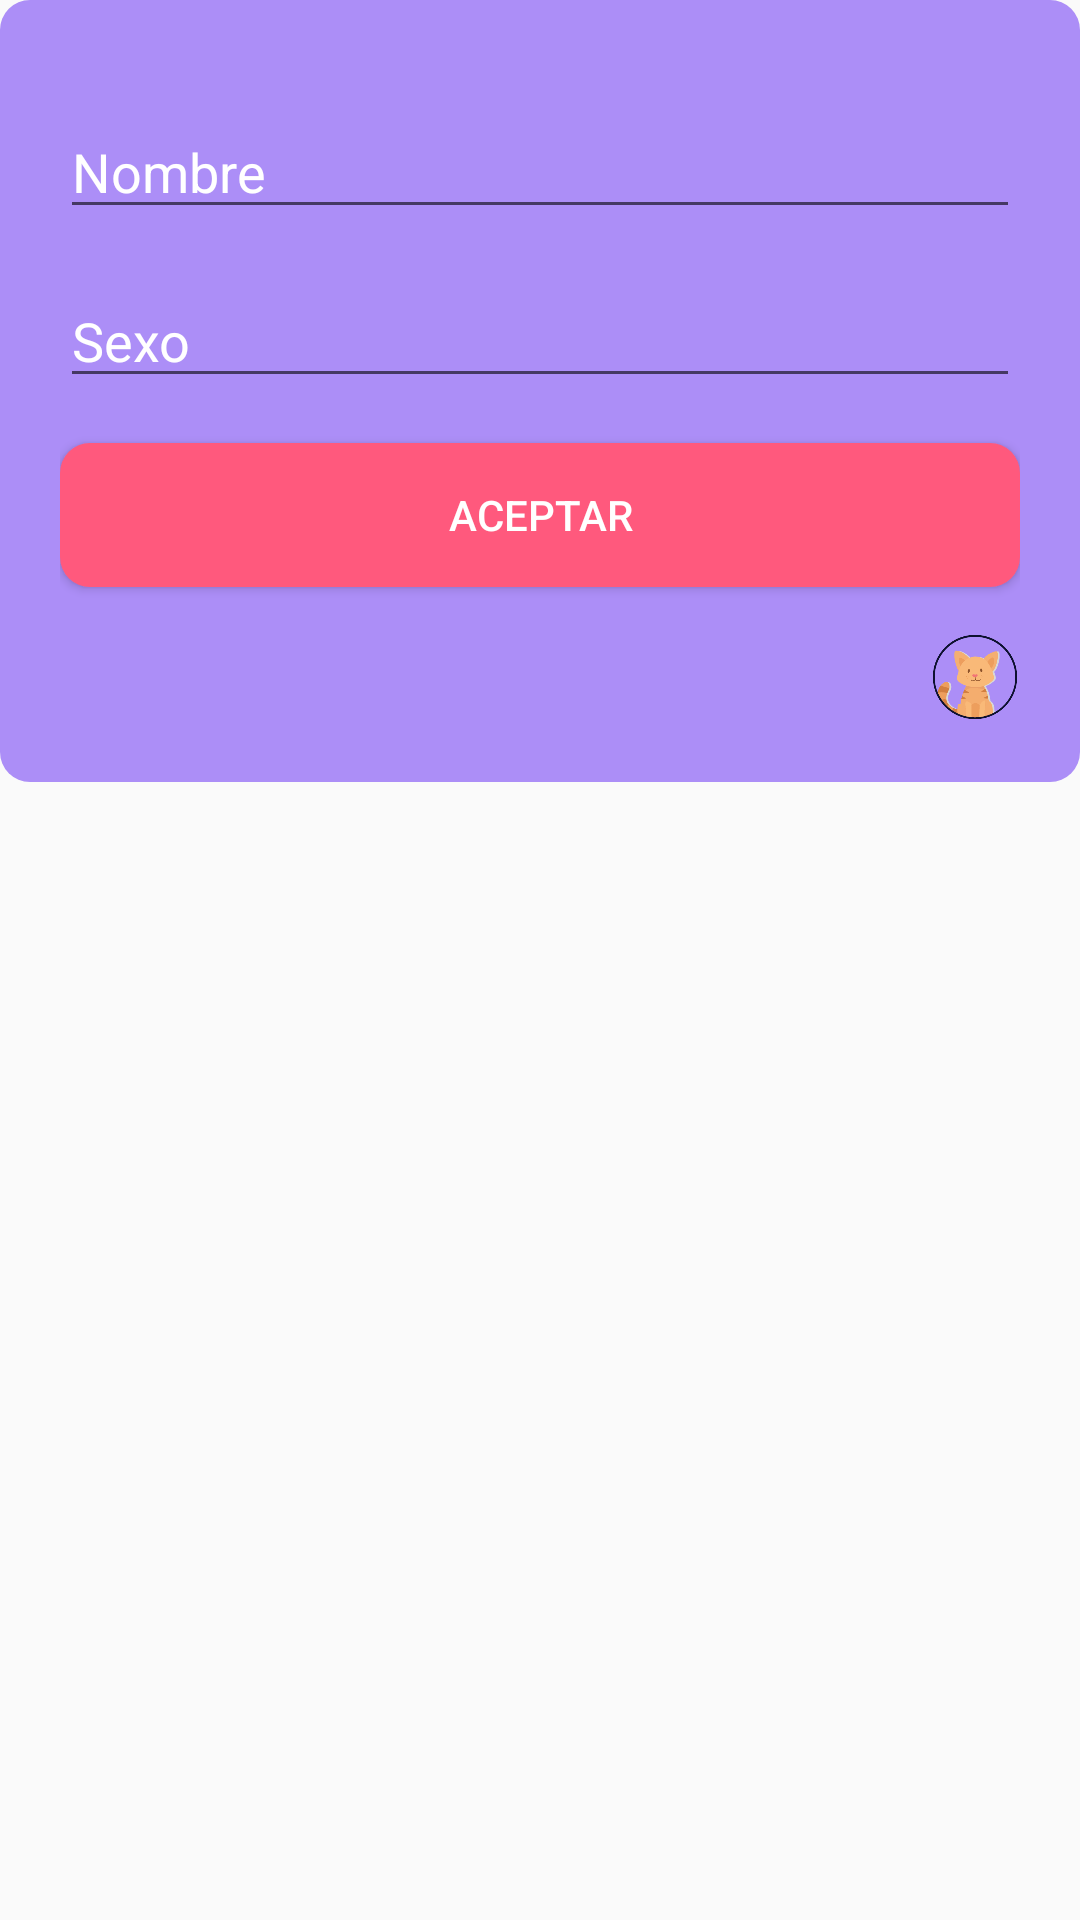

Icons on this 1080x1920 Android screen, each with its box as (x1, y1, x2, y2):
cat: (933, 635, 1017, 719)
